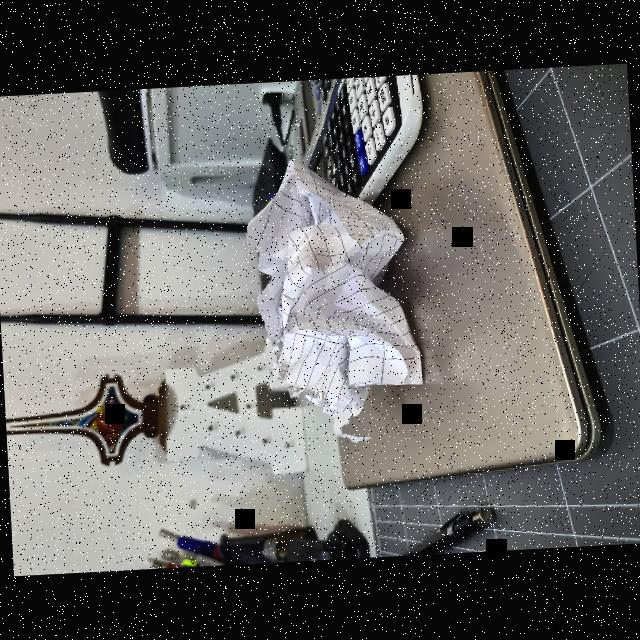scrap_paper: (253, 162, 424, 424)
